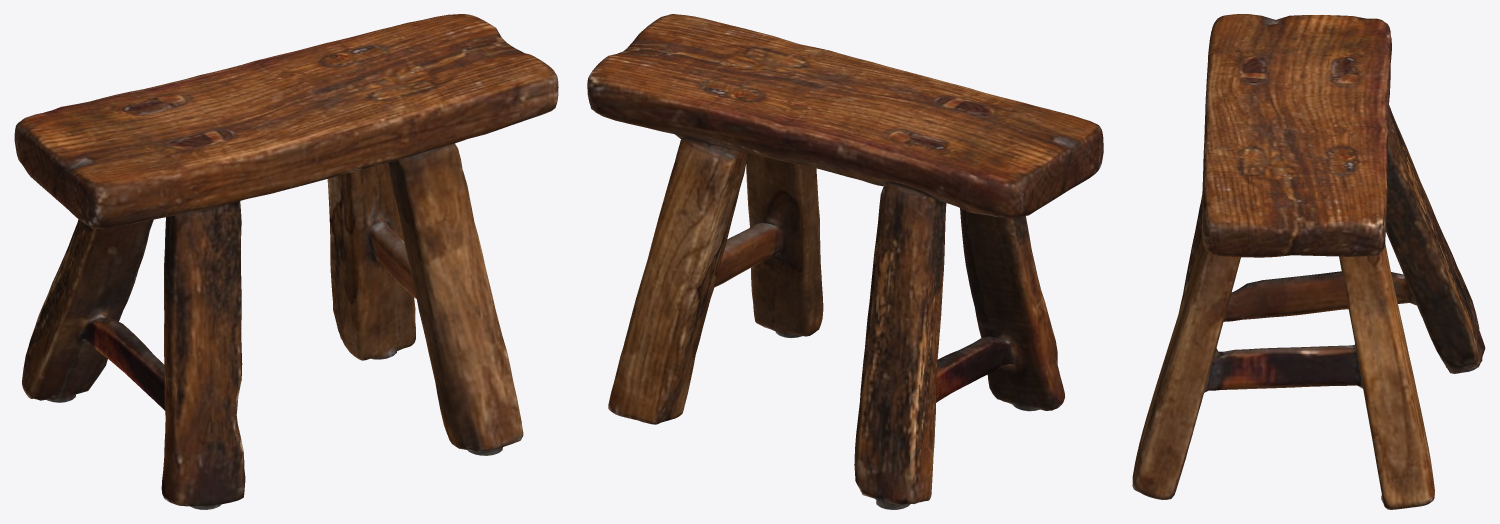
Rendered from wooden_stool_02.glb.
3 views of the same model, side by side, from view 1: azimuth 30°, elevation 25°; view 2: azimuth 150°, elevation 25°; view 3: azimuth 270°, elevation 25° (orthographic). The views are drawn at different scales.
Parts seen in each view (by area): view 1: wooden_stool_02; view 2: wooden_stool_02; view 3: wooden_stool_02.
Boxes of the visible parts, x1,y1,x2,y2 form: wooden_stool_02: (14,14,558,509); wooden_stool_02: (587,14,1103,509); wooden_stool_02: (1132,14,1485,509).
Size of the model in its own units: 0.2652 by 0.1819 by 0.1831.
Materials: 1 (1 with a texture image).
